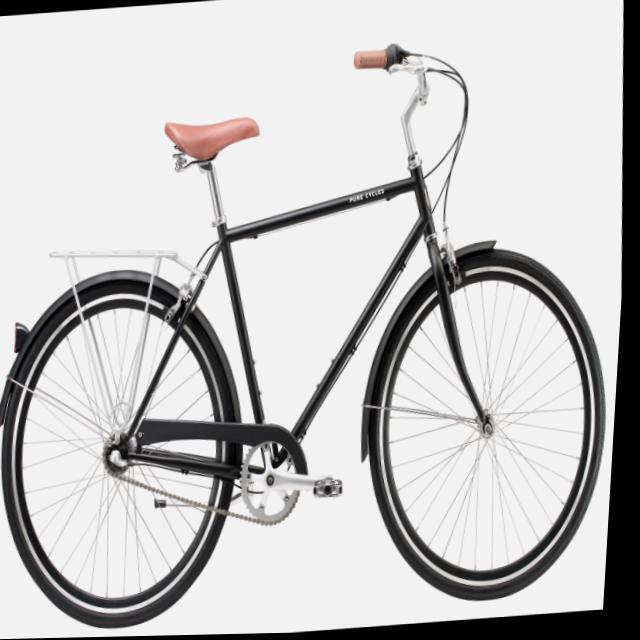road-bike: (0, 30, 638, 638)
